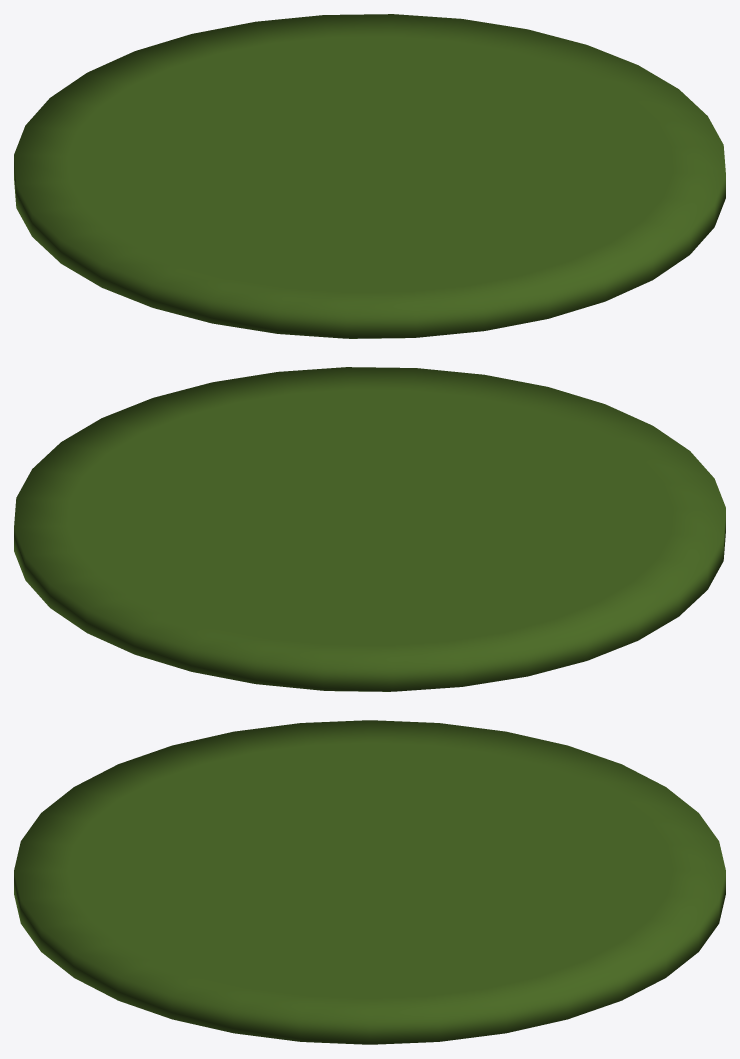
Rendered from grass.gltf.
The picture shows the model from 3 angles, top to bottom: view 1: azimuth 30°, elevation 25°; view 2: azimuth 150°, elevation 25°; view 3: azimuth 270°, elevation 25°; orthographic projection.
Parts seen in each view (by area): view 1: Plane; view 2: Plane; view 3: Plane.
Boxes of the visible parts, x1,y1,x2,y2 form: Plane: [14, 14, 725, 338]; Plane: [14, 367, 725, 691]; Plane: [14, 720, 725, 1044].
Size of the model in its own units: 2 by 0.1892 by 2.
Materials: 1 (1 with a texture image).
